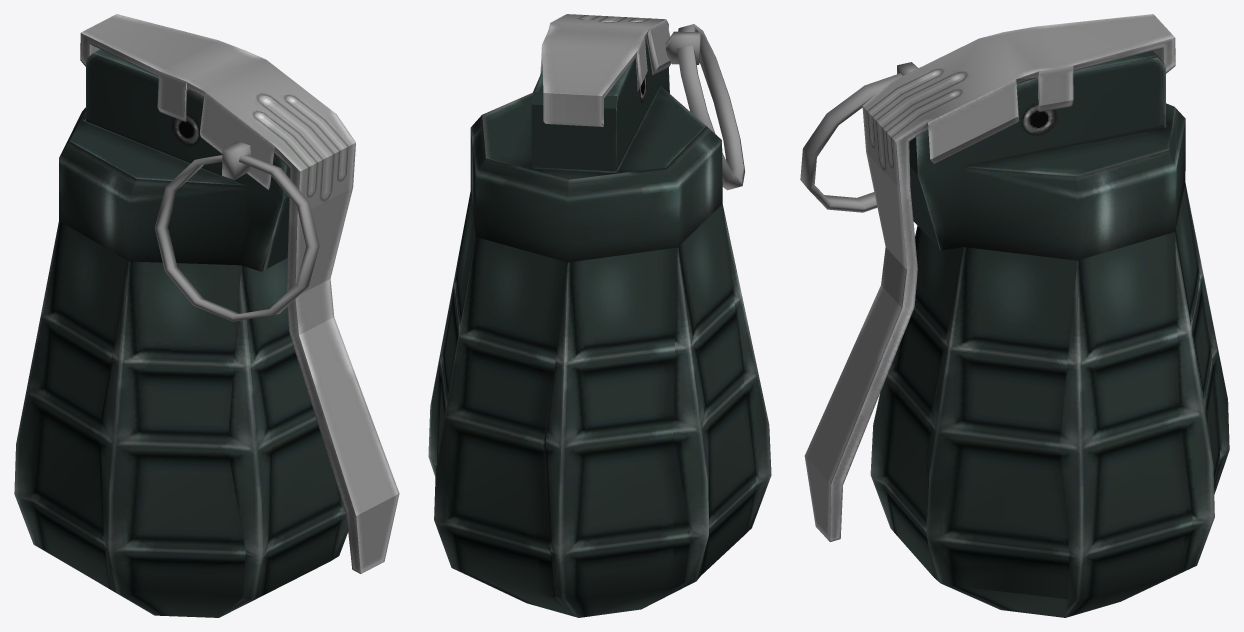
File: grenade.FBX
3 views of the same model, side by side, from view 1: azimuth 30°, elevation 25°; view 2: azimuth 150°, elevation 25°; view 3: azimuth 270°, elevation 25° (orthographic).
Parts seen in each view (by area): view 1: grenade; view 2: grenade; view 3: grenade.
Part boxes in pixels (x1,y1,x2,y2): grenade: (14, 14, 399, 617); grenade: (428, 14, 771, 617); grenade: (800, 14, 1229, 617).
Size of the model in its own units: 2.8 by 3.5 by 4.9.
